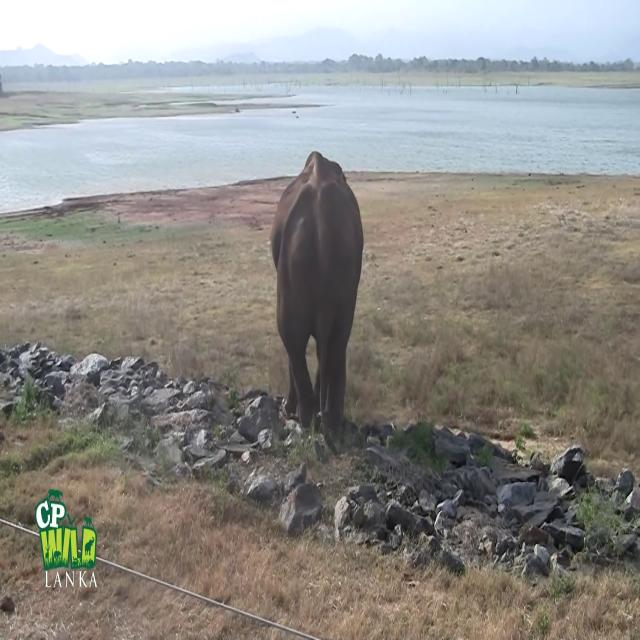Elephant: (270, 149, 364, 454)
